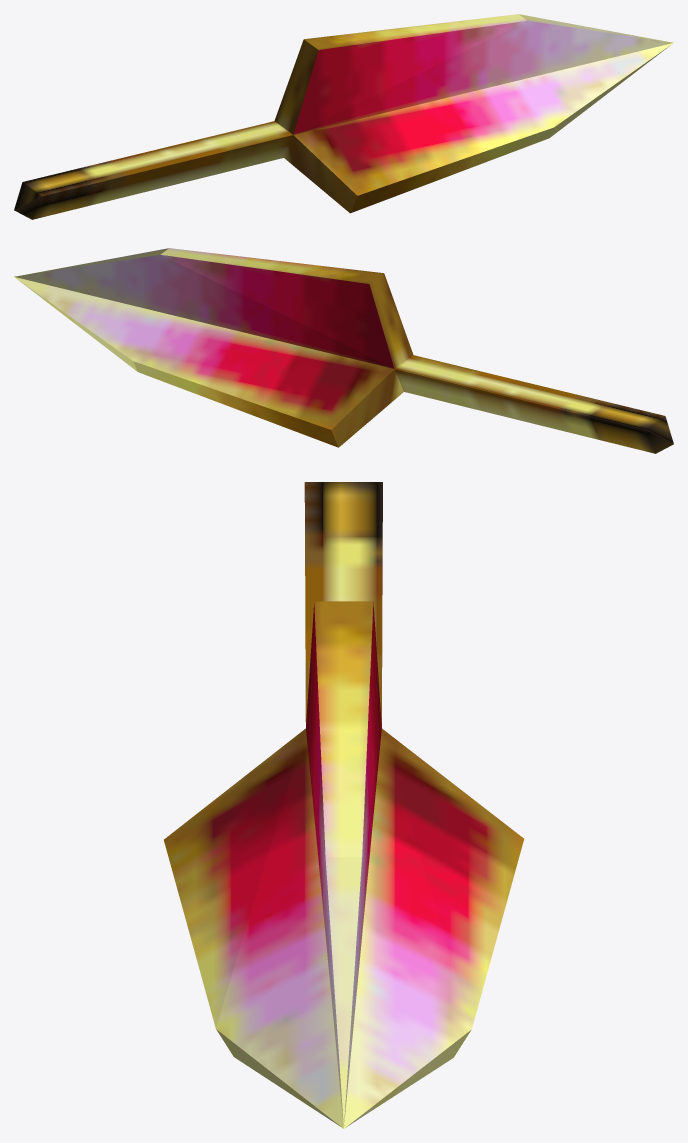
3 views of the same model, one above another, from view 1: azimuth 30°, elevation 25°; view 2: azimuth 150°, elevation 25°; view 3: azimuth 270°, elevation 25° (orthographic). The views are drawn at different scales.
Parts seen in each view (by area): view 1: aw214; view 2: aw214; view 3: aw214.
Part boxes in pixels (x1,y1,x2,y2): aw214: (14, 14, 673, 219); aw214: (14, 248, 673, 453); aw214: (164, 482, 523, 1128).
Size of the model in its own units: 16.31 by 3.35 by 3.86.
1 material, 1 textured.
